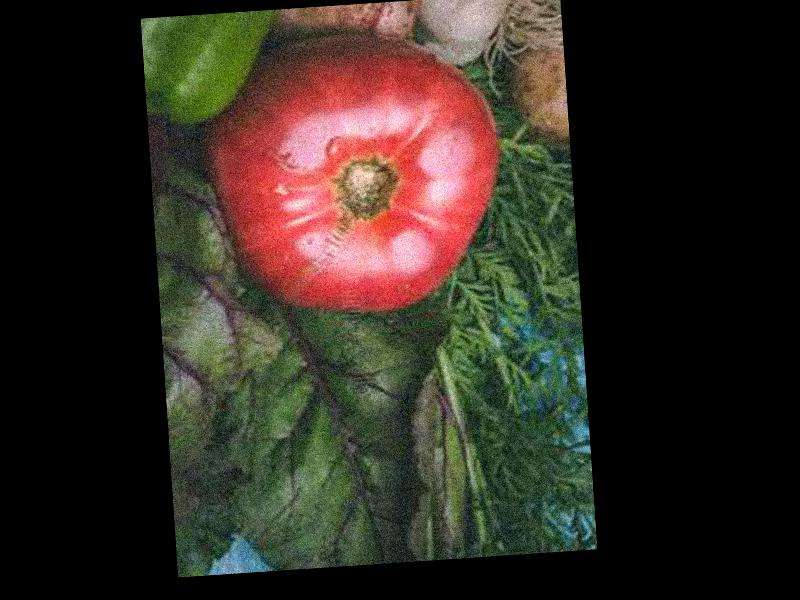Tomato: (194, 21, 509, 321)
